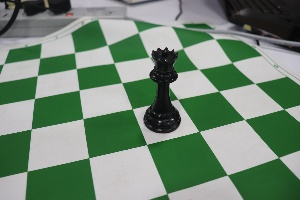black_queen: (131, 27, 185, 139)
